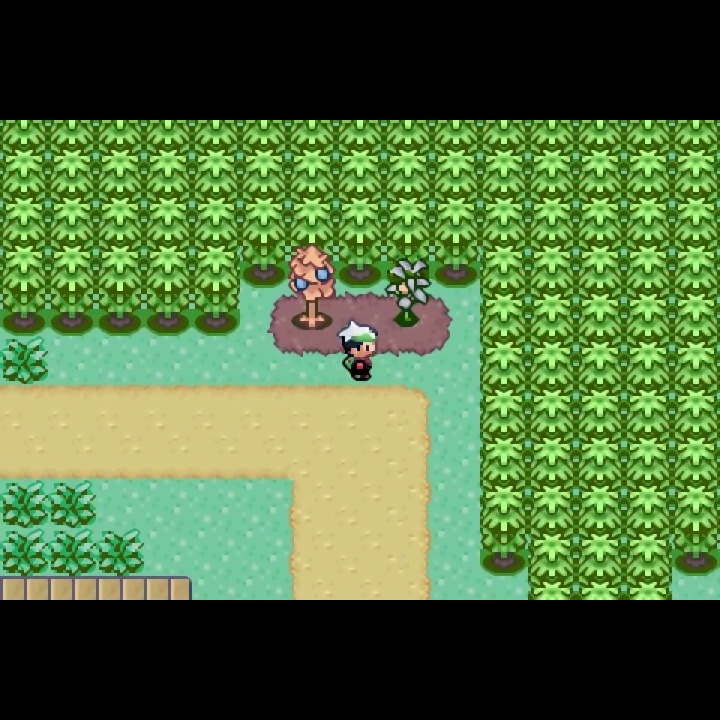grass: (47, 480, 97, 530), (1, 335, 50, 385), (49, 528, 99, 576), (1, 479, 48, 530), (97, 529, 145, 576), (1, 529, 50, 575)
npc: (336, 319, 381, 386)
wall: (191, 245, 241, 338), (96, 245, 146, 337), (48, 244, 97, 336), (337, 195, 384, 289), (672, 485, 720, 577), (478, 485, 527, 575), (240, 197, 287, 290), (1, 244, 49, 335), (146, 245, 193, 337), (433, 196, 479, 290), (385, 196, 431, 259), (622, 244, 671, 295), (621, 435, 670, 485), (95, 149, 144, 198), (528, 436, 576, 486), (528, 388, 576, 438), (528, 340, 576, 390), (529, 244, 577, 294), (672, 147, 720, 197), (576, 339, 622, 391), (480, 342, 529, 390), (527, 484, 576, 532), (623, 340, 672, 388), (623, 293, 672, 341), (672, 244, 720, 293), (480, 292, 527, 342), (576, 148, 622, 199), (480, 437, 528, 485), (480, 390, 528, 438), (528, 532, 576, 580), (672, 197, 720, 245), (192, 196, 239, 245), (432, 148, 479, 197), (480, 243, 527, 292), (624, 485, 671, 534), (623, 197, 670, 246), (671, 435, 720, 482), (673, 292, 720, 341), (481, 148, 527, 198), (529, 148, 575, 198), (192, 149, 240, 196), (289, 149, 336, 197), (528, 197, 576, 244), (577, 532, 624, 580), (576, 485, 623, 533), (1, 149, 47, 198), (95, 198, 144, 244), (241, 148, 287, 197), (576, 244, 622, 293), (144, 149, 191, 196), (337, 149, 384, 196), (480, 197, 527, 244), (529, 295, 576, 342), (145, 197, 191, 245), (672, 389, 720, 435), (289, 197, 334, 246), (577, 436, 622, 485), (625, 148, 670, 197), (48, 198, 94, 245), (625, 533, 671, 580), (624, 388, 670, 435), (1, 197, 46, 245), (578, 197, 623, 245), (674, 341, 720, 387), (49, 149, 94, 196), (385, 149, 430, 196), (577, 388, 622, 435), (578, 291, 621, 340), (96, 120, 144, 150), (144, 120, 192, 150), (49, 120, 96, 150), (239, 120, 287, 149), (338, 120, 384, 150), (289, 120, 336, 149), (1, 119, 46, 149), (431, 120, 479, 148), (528, 120, 576, 148), (480, 120, 527, 148), (673, 119, 720, 147), (194, 120, 239, 148), (387, 120, 431, 148), (577, 120, 624, 146), (626, 120, 671, 146), (526, 580, 575, 600), (624, 580, 673, 600), (577, 580, 623, 601)
